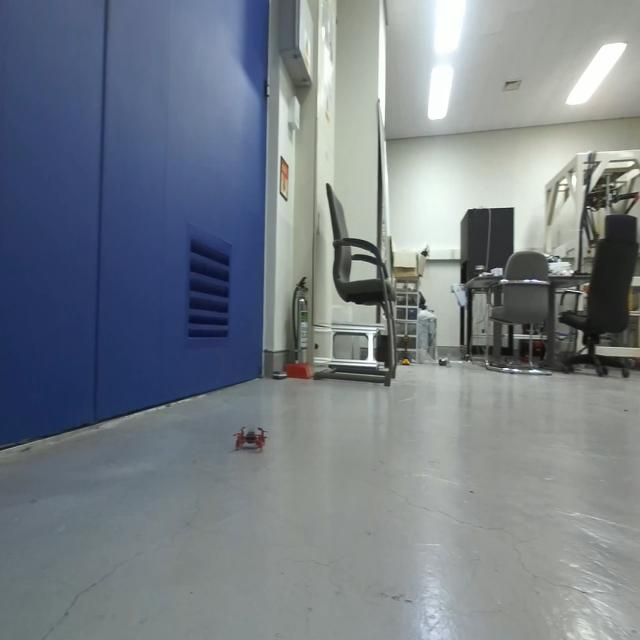crazyflie: (232, 422, 269, 457)
